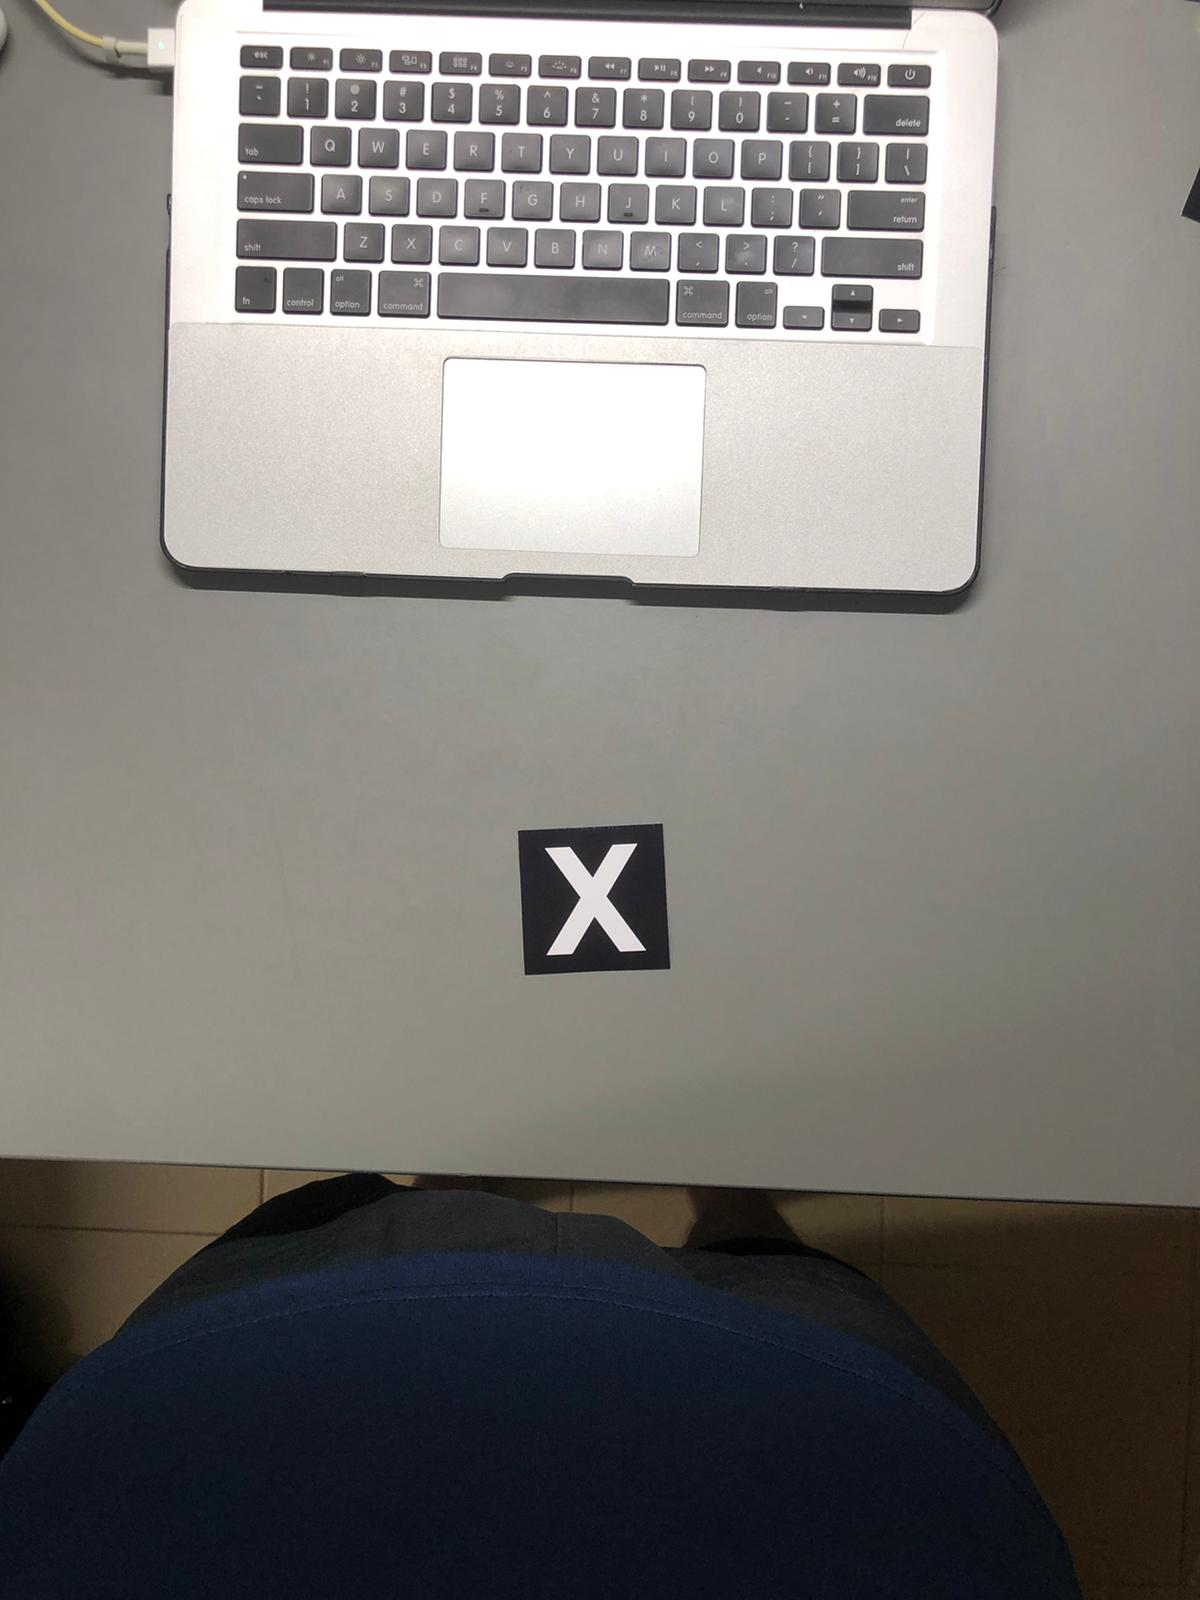X: (518, 829, 671, 968)
